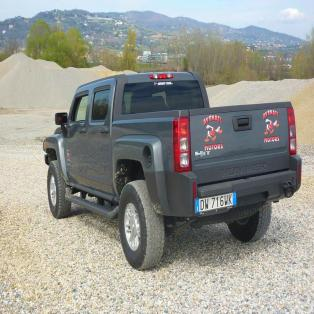Auto: (44, 74, 302, 270)
